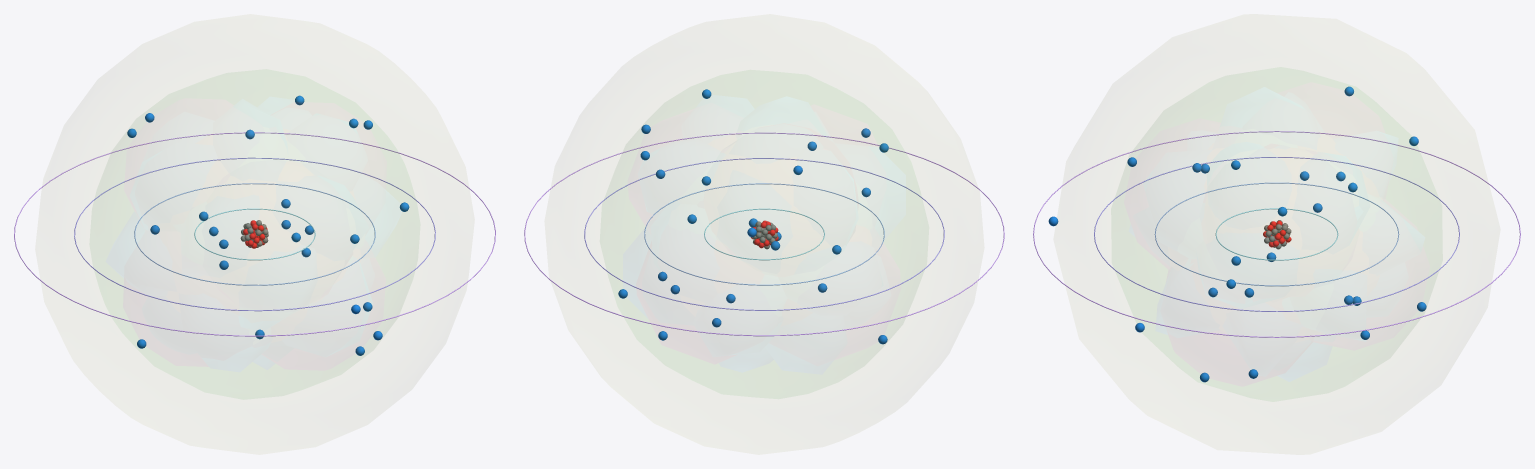
3 views of the same model, side by side, from view 1: azimuth 30°, elevation 25°; view 2: azimuth 150°, elevation 25°; view 3: azimuth 270°, elevation 25° (orthographic).
Visible parts, largest first — view 1: Nivel_n4, Nivel_n3, Nivel_n2; view 2: Nivel_n4, Nivel_n3, Nivel_n2; view 3: Nivel_n4, Nivel_n3, Nivel_n2.
Part boxes in pixels (x1,y1,x2,y2): Nivel_n4: (14,132,495,336); Nivel_n3: (74,157,435,311); Nivel_n2: (134,183,375,285); Nivel_n4: (524,132,1004,336); Nivel_n3: (584,158,944,310); Nivel_n2: (644,183,884,285); Nivel_n4: (1033,131,1520,337); Nivel_n3: (1094,157,1459,311); Nivel_n2: (1154,182,1399,286).
Bounding box in the file's own units: 1.2 × 1.1 × 1.2.
